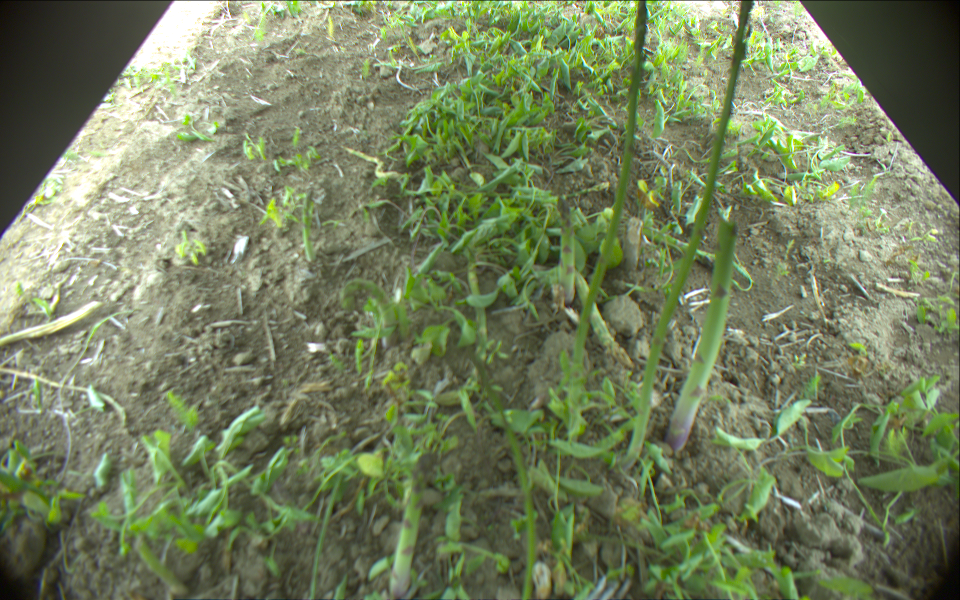aspa: (621, 1, 755, 466), (571, 1, 647, 369), (444, 345, 536, 600), (664, 218, 738, 451), (575, 272, 632, 369), (387, 478, 423, 600), (641, 222, 715, 271), (134, 537, 189, 600), (550, 195, 574, 304), (301, 188, 317, 262)
